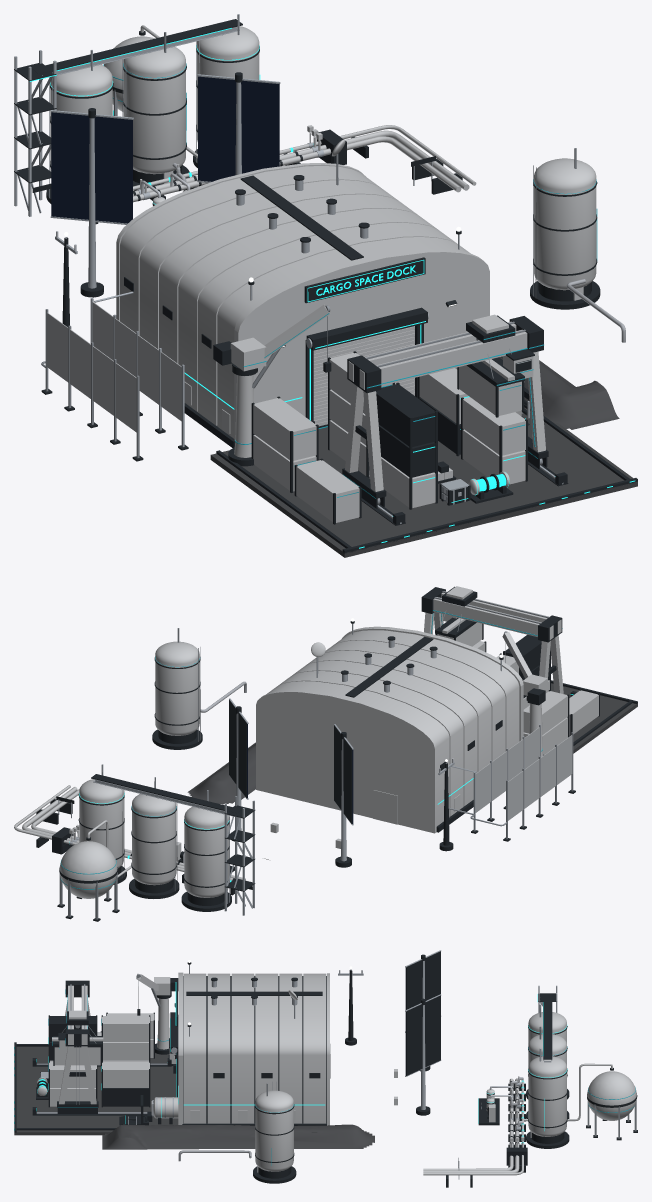
Rendered from cargo_dock_compact_v3.glb.
The picture shows the model from 3 angles, top to bottom: view 1: azimuth 30°, elevation 25°; view 2: azimuth 150°, elevation 25°; view 3: azimuth 270°, elevation 25°; orthographic projection. The views are drawn at different scales.
Visible parts, largest first — view 1: Base_Paint, Tier_20, Crane_Gantry, Base_Metal, Tier_05, Tier_03, Tier_08, Dock_Door, Base_GlowCyan, Tier_12; view 2: Base_Paint, Tier_20, Crane_Gantry, Tier_05, Base_Metal, Tier_12, Tier_08, Tier_03; view 3: Base_Paint, Tier_20, Crane_Gantry, Tier_03, Tier_12, Base_Metal, Tier_08, Tier_05, Base_GlowCyan.
Boxes of the visible parts, <box> form: Base_Paint: <box>14,19,637,557</box>; Tier_20: <box>41,148,625,524</box>; Crane_Gantry: <box>342,314,548,508</box>; Base_Metal: <box>14,14,563,523</box>; Tier_05: <box>122,32,189,190</box>; Tier_03: <box>328,351,527,457</box>; Tier_08: <box>213,304,331,466</box>; Dock_Door: <box>313,326,414,428</box>; Base_GlowCyan: <box>29,28,635,548</box>; Tier_12: <box>103,25,197,158</box>; Base_Paint: <box>14,621,637,911</box>; Tier_20: <box>152,628,599,841</box>; Crane_Gantry: <box>421,586,563,693</box>; Tier_05: <box>129,777,179,898</box>; Base_Metal: <box>58,623,540,915</box>; Tier_12: <box>57,820,131,921</box>; Tier_08: <box>502,631,547,757</box>; Tier_03: <box>472,634,550,677</box>; Base_Paint: <box>14,951,569,1187</box>; Tier_20: <box>97,975,296,1183</box>; Crane_Gantry: <box>52,980,103,1113</box>; Tier_03: <box>48,1015,150,1088</box>; Tier_12: <box>523,1063,637,1140</box>; Base_Metal: <box>36,950,557,1179</box>; Tier_08: <box>136,973,178,1054</box>; Tier_05: <box>510,1026,569,1121</box>; Base_GlowCyan: <box>14,982,567,1143</box>.
Size of the model in its own units: 46.9 by 16.89 by 77.67.
